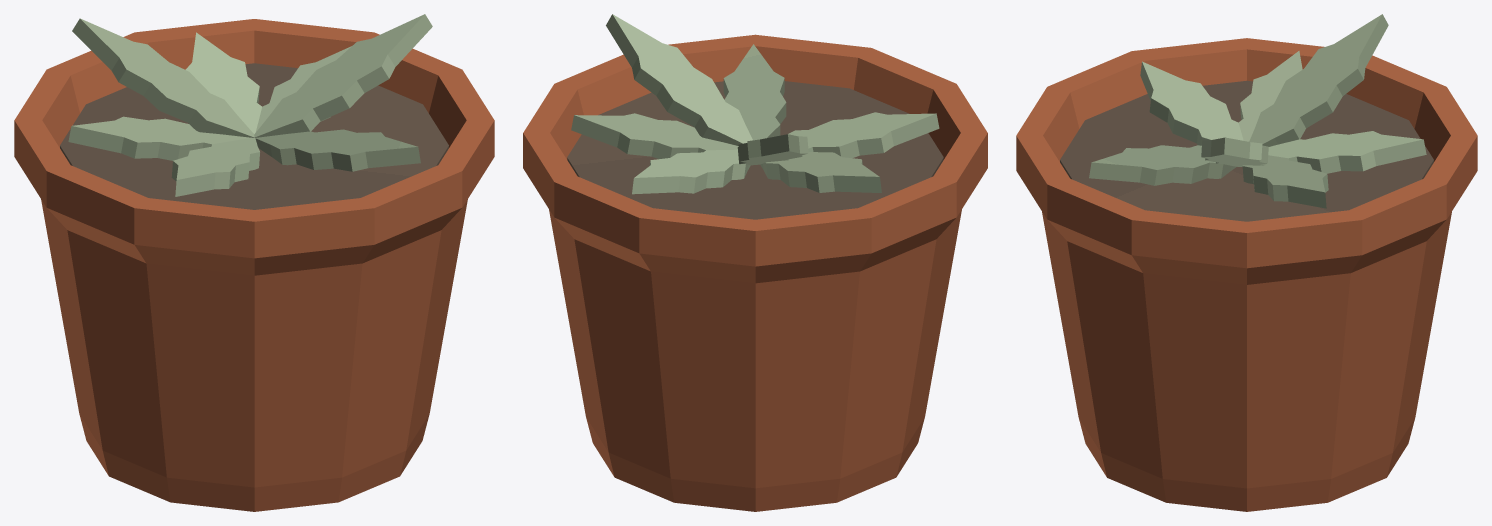
The model's file is new-cristatus.glb.
The picture shows the model from 3 angles, left to right: view 1: azimuth 30°, elevation 25°; view 2: azimuth 150°, elevation 25°; view 3: azimuth 270°, elevation 25°; orthographic projection. The views are drawn at different scales.
Visible parts, largest first — view 1: new-cristatus/review-terra-vessel, new-cristatus/review-rooted-soil, new-cristatus/leaf-006, new-cristatus/leaf-007, new-cristatus/leaf-003, new-cristatus/leaf-002, new-cristatus/leaf-005, new-cristatus/leaf-004, new-cristatus/leaf-001; view 2: new-cristatus/review-terra-vessel, new-cristatus/review-rooted-soil, new-cristatus/leaf-006, new-cristatus/leaf-001, new-cristatus/leaf-005, new-cristatus/leaf-003, new-cristatus/leaf-004, new-cristatus/leaf-002, new-cristatus/leaf-007; view 3: new-cristatus/review-terra-vessel, new-cristatus/review-rooted-soil, new-cristatus/leaf-007, new-cristatus/leaf-005, new-cristatus/leaf-004, new-cristatus/leaf-003, new-cristatus/leaf-001, new-cristatus/leaf-002, new-cristatus/leaf-006.
Boxes of the visible parts, x1=… form: new-cristatus/review-terra-vessel: x1=14, y1=19, x2=494, y2=511; new-cristatus/review-rooted-soil: x1=60, y1=63, x2=448, y2=209; new-cristatus/leaf-006: x1=254, y1=14, x2=432, y2=137; new-cristatus/leaf-007: x1=72, y1=18, x2=254, y2=137; new-cristatus/leaf-003: x1=255, y1=129, x2=420, y2=171; new-cristatus/leaf-002: x1=68, y1=116, x2=251, y2=160; new-cristatus/leaf-005: x1=171, y1=138, x2=259, y2=196; new-cristatus/leaf-004: x1=185, y1=32, x2=261, y2=133; new-cristatus/leaf-001: x1=255, y1=46, x2=351, y2=132; new-cristatus/review-terra-vessel: x1=523, y1=34, x2=987, y2=511; new-cristatus/review-rooted-soil: x1=567, y1=81, x2=943, y2=219; new-cristatus/leaf-006: x1=606, y1=14, x2=752, y2=145; new-cristatus/leaf-001: x1=571, y1=113, x2=738, y2=158; new-cristatus/leaf-005: x1=788, y1=112, x2=939, y2=158; new-cristatus/leaf-003: x1=723, y1=44, x2=786, y2=140; new-cristatus/leaf-004: x1=632, y1=149, x2=750, y2=194; new-cristatus/leaf-002: x1=760, y1=152, x2=881, y2=192; new-cristatus/leaf-007: x1=737, y1=134, x2=808, y2=165; new-cristatus/review-terra-vessel: x1=1016, y1=38, x2=1477, y2=511; new-cristatus/review-rooted-soil: x1=1060, y1=80, x2=1433, y2=221; new-cristatus/leaf-007: x1=1249, y1=14, x2=1388, y2=146; new-cristatus/leaf-005: x1=1140, y1=61, x2=1243, y2=145; new-cristatus/leaf-004: x1=1268, y1=131, x2=1426, y2=173; new-cristatus/leaf-003: x1=1089, y1=145, x2=1236, y2=185; new-cristatus/leaf-001: x1=1242, y1=155, x2=1328, y2=208; new-cristatus/leaf-002: x1=1238, y1=51, x2=1302, y2=141; new-cristatus/leaf-006: x1=1201, y1=137, x2=1268, y2=166.
Size of the model in its own units: 0.19 by 0.1731 by 0.19.
3 materials, 3 textured.
